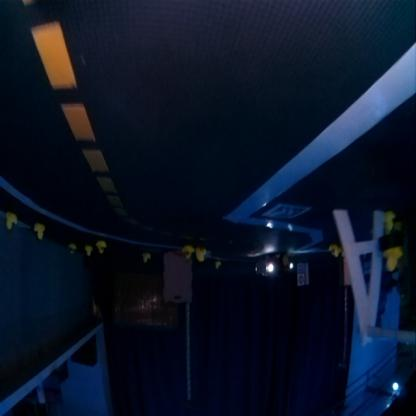Duckie: (383, 250, 400, 272), (384, 212, 395, 230), (34, 224, 44, 240), (5, 216, 16, 230), (182, 249, 192, 260), (196, 252, 206, 262), (97, 242, 105, 254), (141, 254, 150, 263)
Duckiebot: (255, 255, 292, 279)
QR code: (263, 205, 308, 219)
